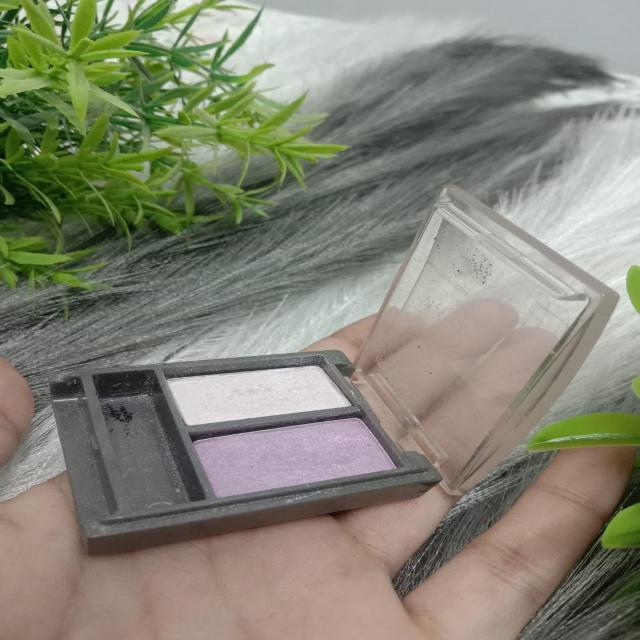highlighter: (174, 407, 403, 492), (154, 352, 357, 420)
